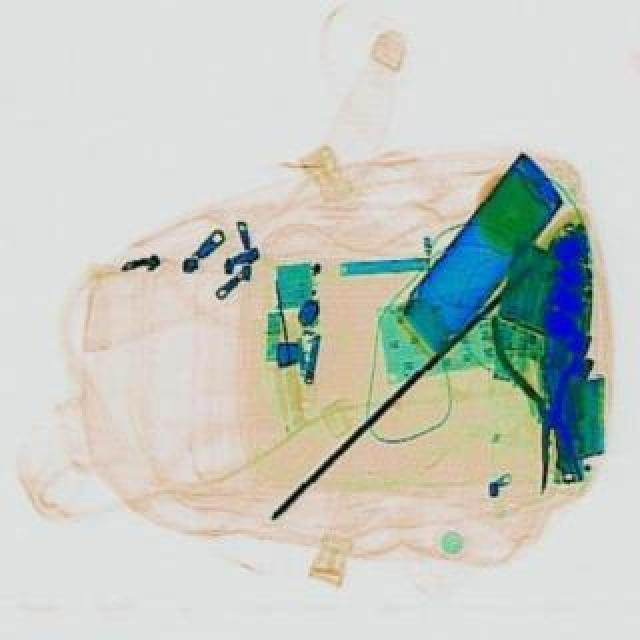wrench: (488, 304, 602, 494)
